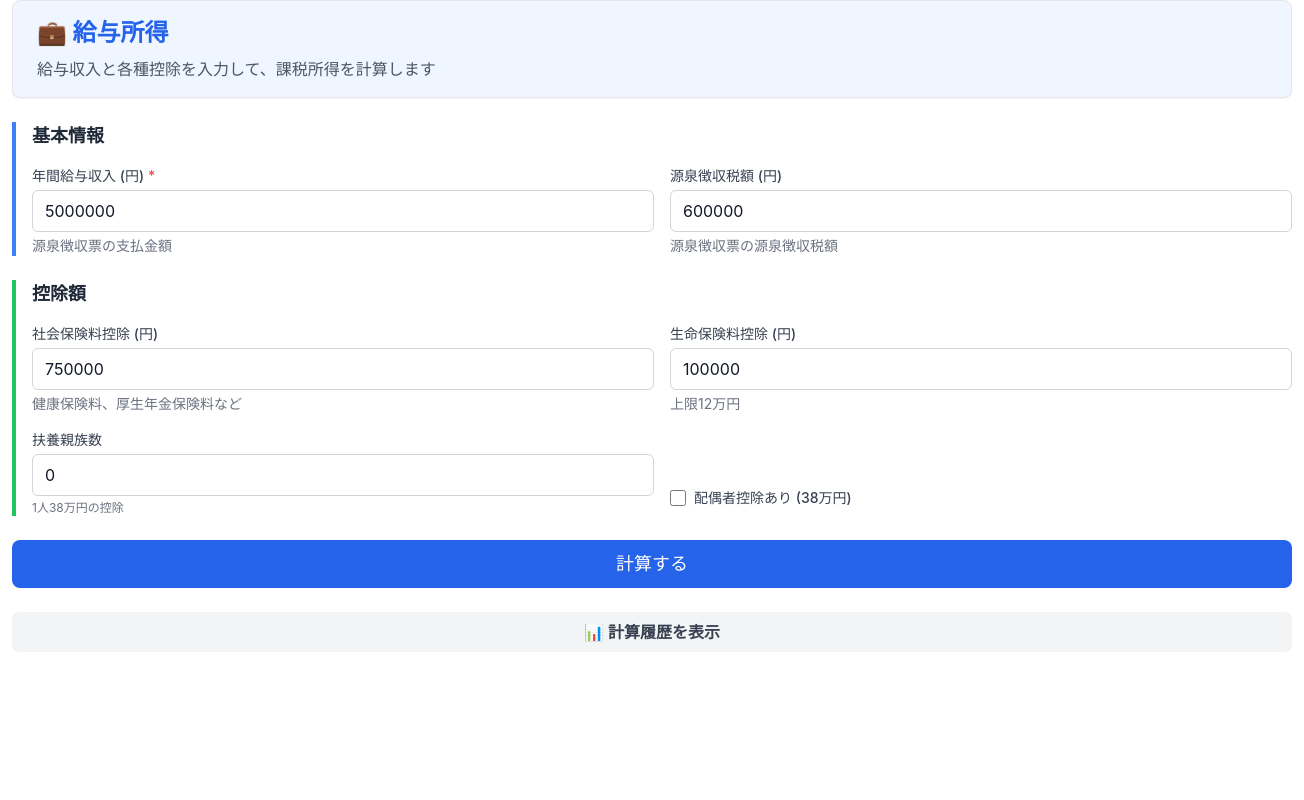
Test: SalaryIncomeModule › 年分別の税額表示（還付・納付） › 復興特別所得税の内訳と還付見込み額を表示する
Click the button "計算する" at (652, 564), box [12,540,1292,588]
(page scrolled)
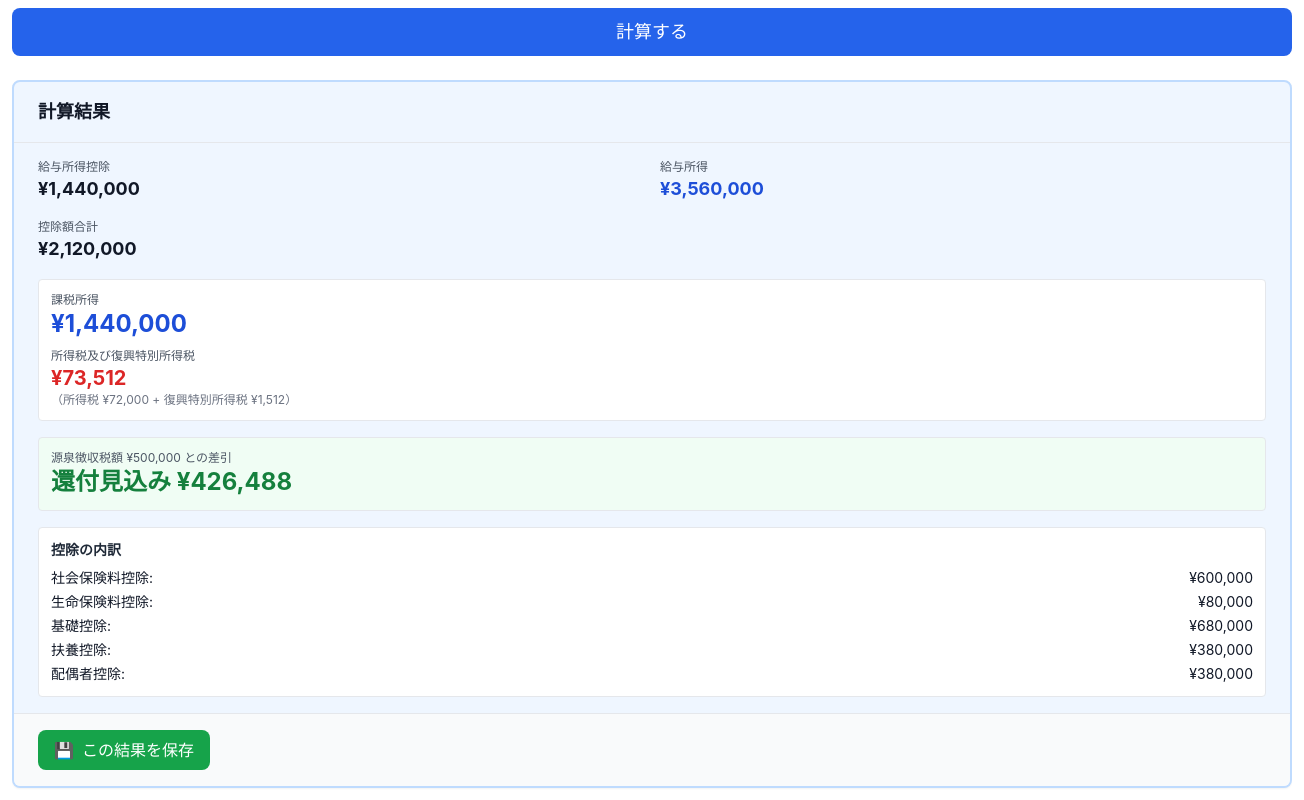
Expected: the element with test id "salary-tax-settlement" shows "還付見込み ¥426,488", [38,437,1266,511]
Expected: the element with test id "salary-tax-settlement" shows "源泉徴収税額 ¥500,000", [38,437,1266,511]
Expected: the text "所得税及び復興特別所得税" is shown, [51,348,195,363]
